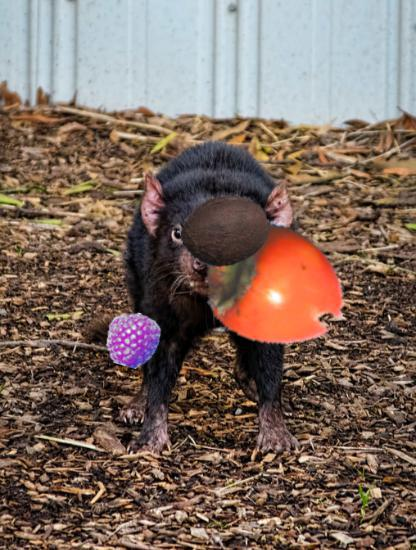Cocos: (180, 186, 270, 276)
Kaki: (203, 213, 349, 359)
Raspberry: (105, 312, 161, 368)
